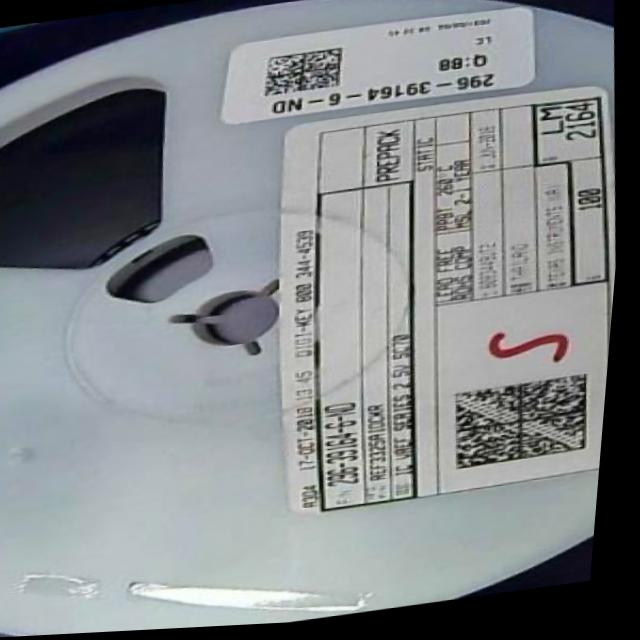datamatrix: (451, 377, 603, 478), (258, 47, 350, 102)
